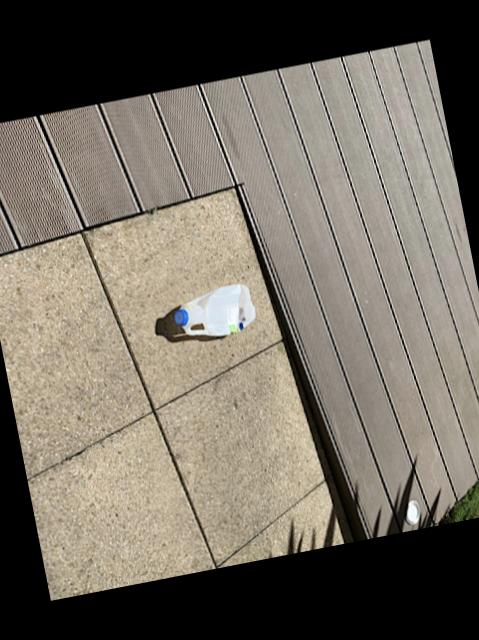plastic: (173, 286, 255, 338)
